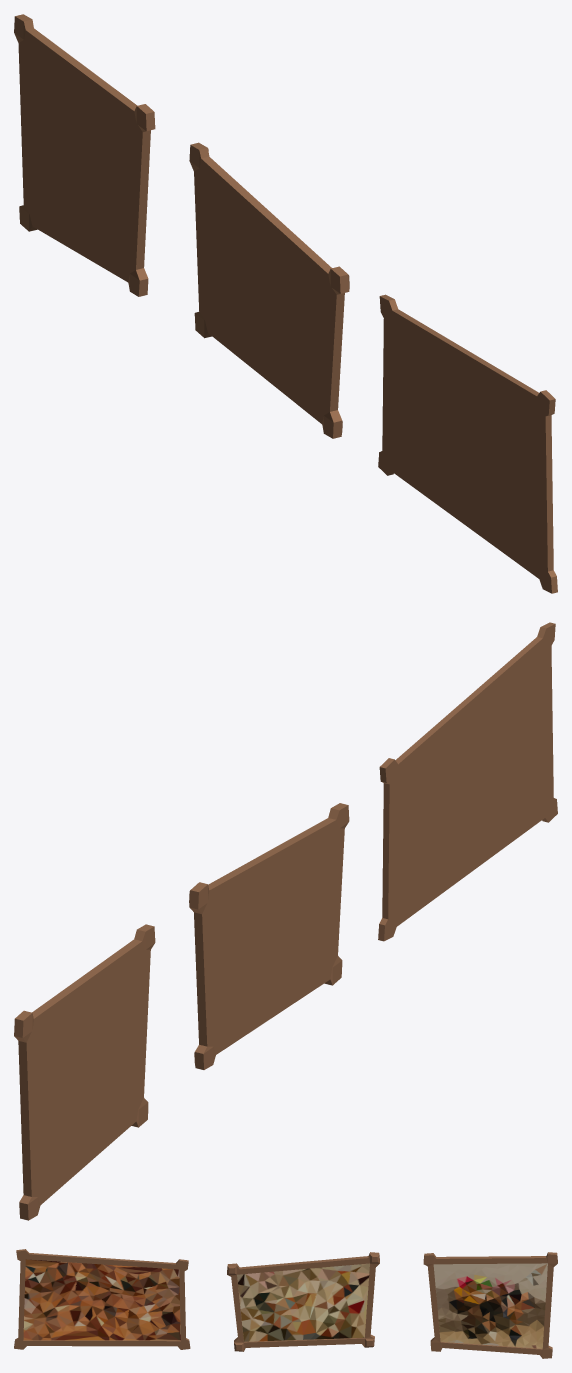
File: Marcos12.fbx
The picture shows the model from 3 angles, top to bottom: view 1: azimuth 30°, elevation 25°; view 2: azimuth 150°, elevation 25°; view 3: azimuth 270°, elevation 25°; orthographic projection. The views are drawn at different scales.
Visible parts, largest first — view 1: Cube.003, Cube.005, Cube.001; view 2: Cube.003, Cube.005, Cube.001; view 3: Cube.003, Cube.005, Cube.001.
Part boxes in pixels (x1,y1,x2,y2): Cube.003: (378, 294, 557, 593); Cube.005: (189, 142, 349, 438); Cube.001: (14, 14, 155, 296); Cube.003: (378, 622, 557, 941); Cube.005: (189, 803, 349, 1069); Cube.001: (14, 924, 155, 1220); Cube.003: (14, 1249, 190, 1349); Cube.005: (227, 1252, 379, 1351); Cube.001: (423, 1252, 557, 1358).
Size of the model in its own units: 5.79 by 102 by 467.
